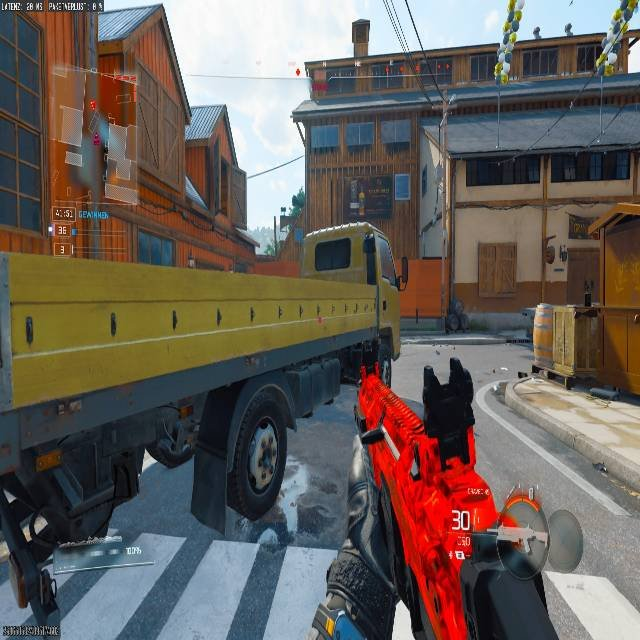player: (445, 296, 468, 333)
